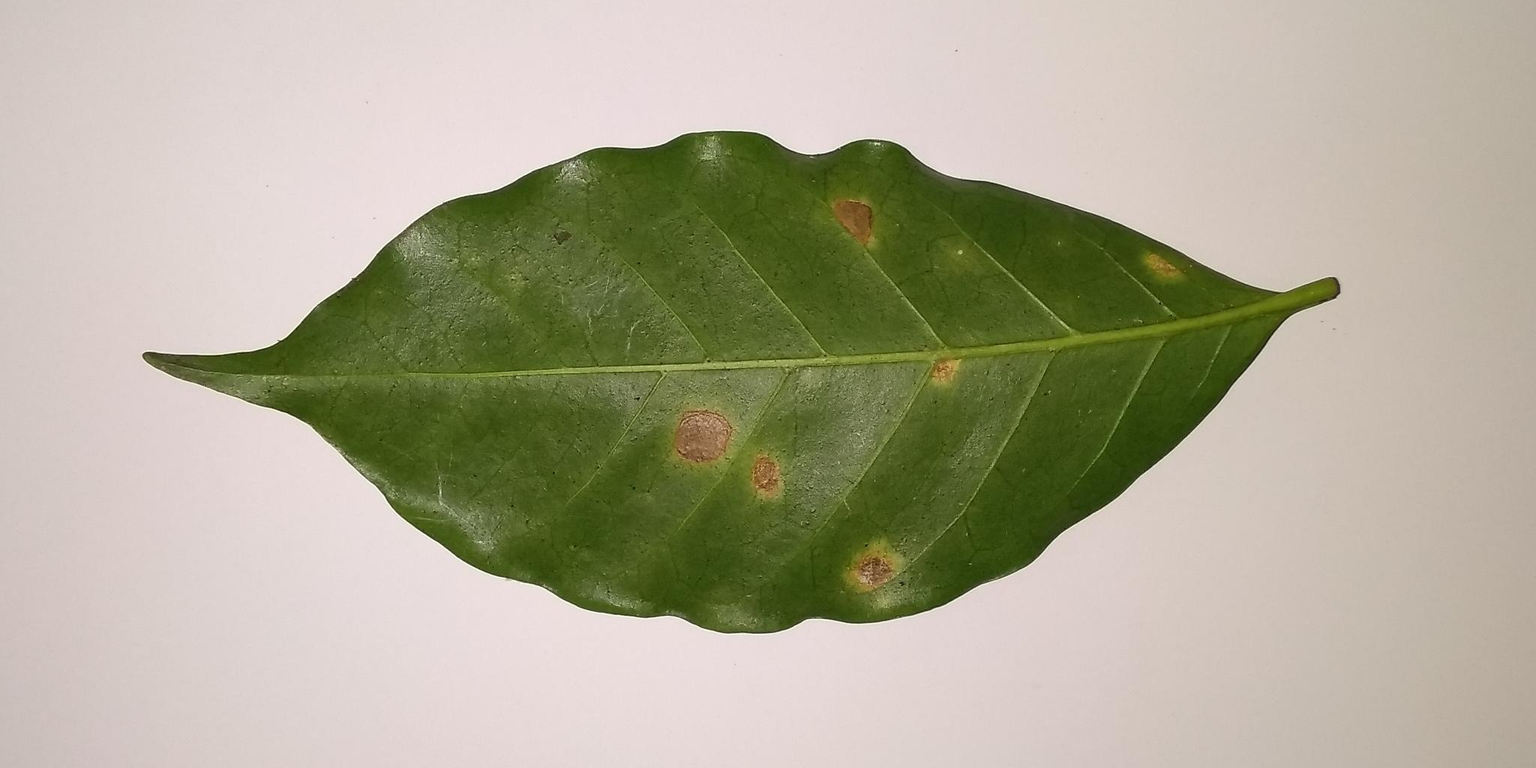Rust: (829, 525, 924, 618)
